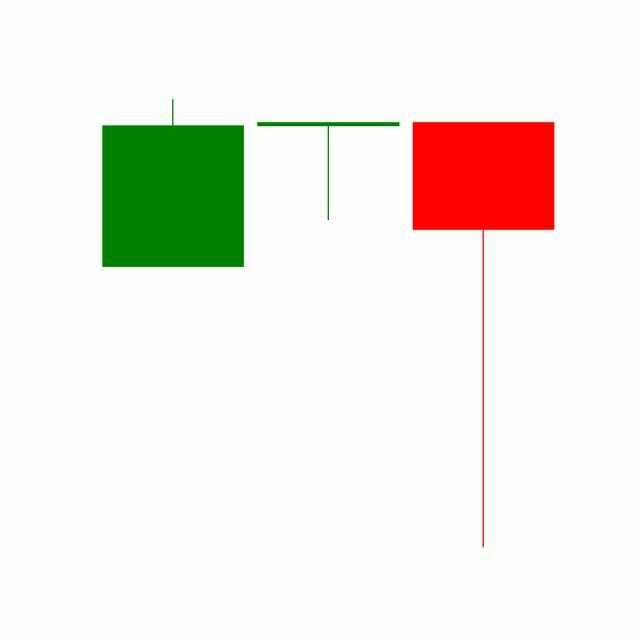Dragonfly Doji: (250, 121, 407, 223)
